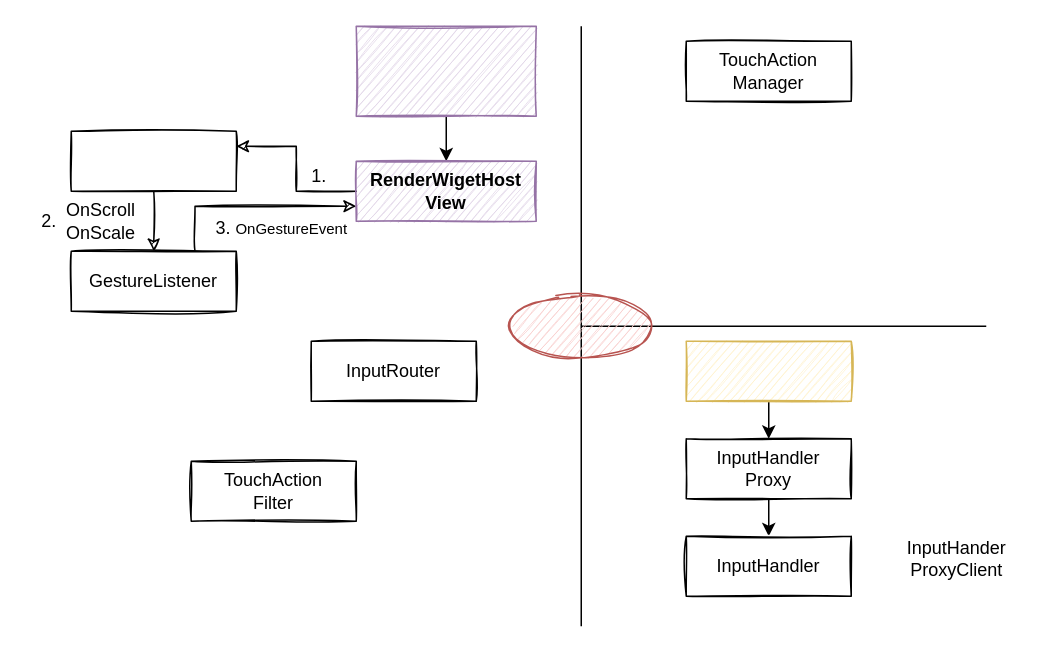
This 1041x654 diagram has some shape labels left out. The shapes that lost their labels are listed below. From the top down, each one's centre as x and y in pixels, then its label:
At point (445, 70): "Webview# OnTouchEvent".
At point (153, 160): "Scale/Scroll GestureDetector".
At point (580, 325): "Mojo".
At point (768, 370): "WidgetInput Helper".
